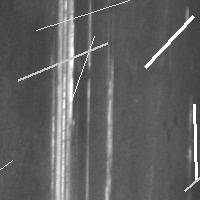scratches: (46, 1, 81, 200), (13, 38, 112, 85), (31, 0, 134, 35), (140, 11, 198, 72), (66, 31, 99, 106), (102, 65, 117, 200), (189, 99, 200, 186), (0, 155, 17, 200), (180, 164, 200, 195)
